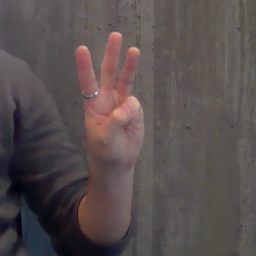W: (72, 30, 148, 167)
